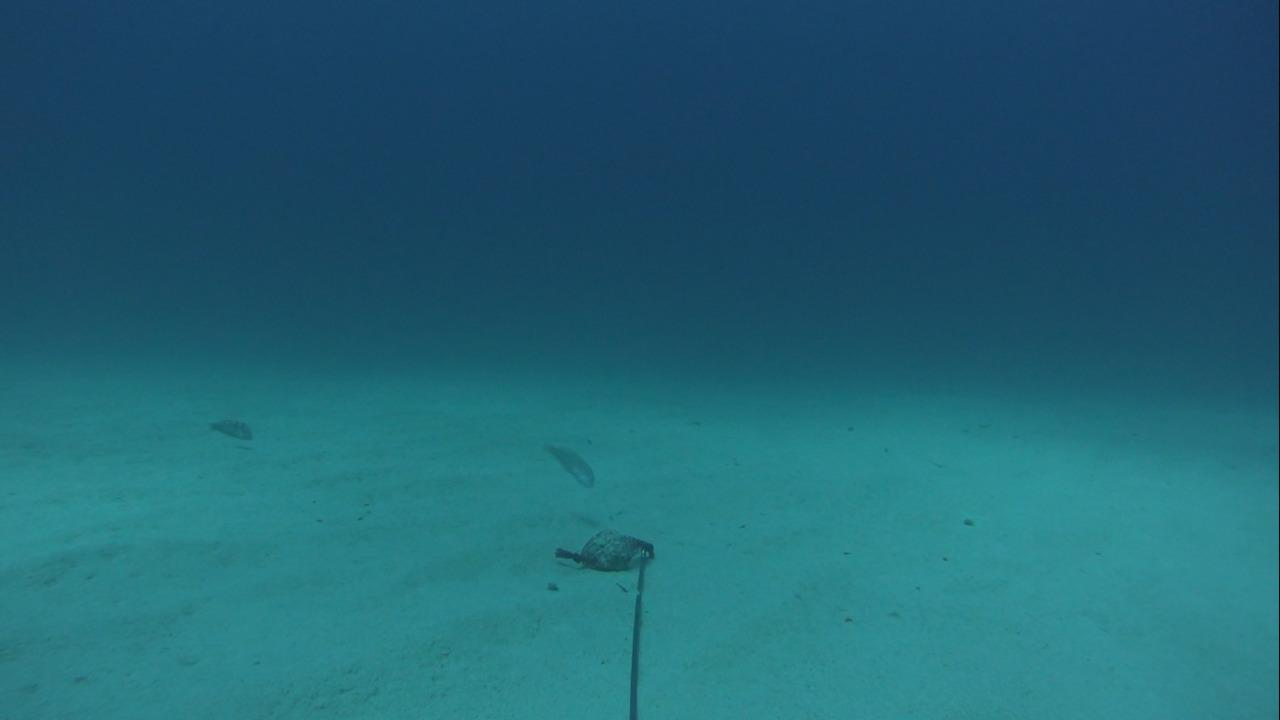raor: (535, 442, 600, 494), (198, 410, 256, 442)
